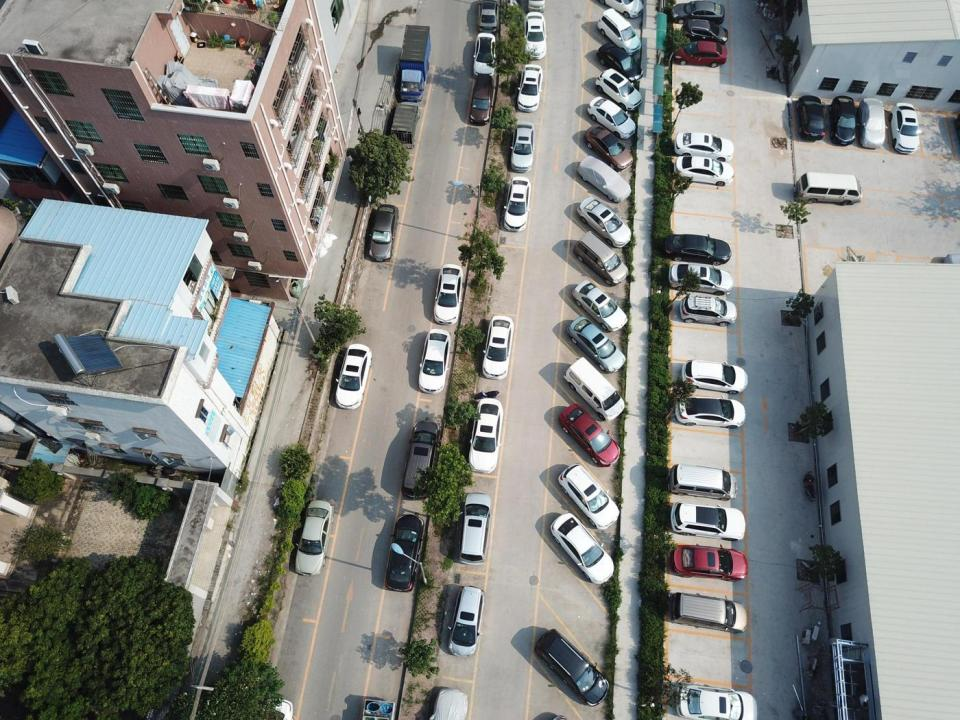car: (534, 629, 610, 706), (550, 512, 614, 584), (557, 463, 620, 529), (558, 403, 621, 467), (566, 315, 627, 373), (384, 514, 424, 592), (401, 421, 440, 501), (674, 683, 758, 720), (294, 499, 334, 576), (670, 543, 748, 582), (571, 279, 628, 331), (671, 501, 745, 541), (577, 196, 631, 248), (448, 584, 485, 657), (576, 155, 632, 202), (674, 393, 747, 428), (468, 398, 502, 473), (459, 492, 493, 565), (335, 344, 372, 410), (584, 124, 634, 172), (680, 360, 748, 394), (664, 232, 731, 266), (482, 315, 515, 380), (668, 263, 734, 295), (594, 67, 642, 111), (597, 7, 641, 55), (587, 96, 636, 139), (418, 328, 450, 393), (596, 42, 643, 84), (674, 155, 734, 186), (673, 132, 734, 162), (679, 295, 738, 326), (434, 264, 464, 324), (368, 204, 399, 261), (888, 102, 921, 154), (858, 97, 888, 149), (504, 177, 532, 232), (674, 40, 728, 68), (829, 95, 858, 144), (468, 73, 494, 125), (670, 0, 724, 24), (797, 96, 826, 140), (510, 121, 535, 172), (517, 64, 543, 112), (680, 19, 728, 45), (431, 687, 468, 720), (523, 12, 547, 60), (472, 32, 496, 78), (599, 0, 644, 19), (477, 0, 499, 34)
truck: (398, 25, 432, 103), (390, 102, 420, 150)
van: (563, 356, 625, 421), (672, 592, 747, 634), (572, 231, 628, 284), (667, 464, 738, 501), (796, 171, 863, 206)
